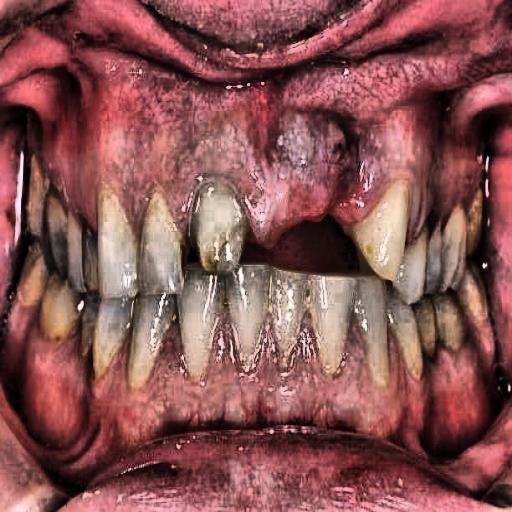Gingivitis: (43, 63, 358, 222), (254, 86, 386, 239), (360, 97, 494, 229)
